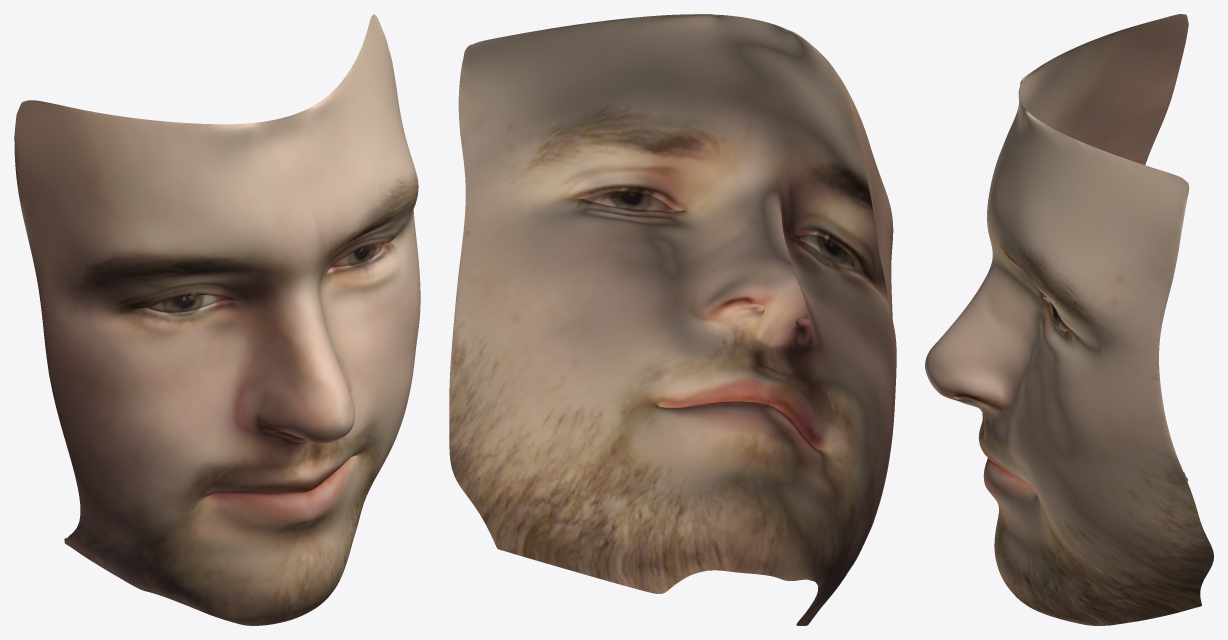
The model's file is rory-head.glb.
3 views of the same model, side by side, from view 1: azimuth 30°, elevation 25°; view 2: azimuth 150°, elevation 25°; view 3: azimuth 270°, elevation 25° (orthographic). The views are drawn at different scales.
Parts seen in each view (by area): view 1: face, eye_left, eye_right; view 2: face, eye_right, eye_left; view 3: face.
Boxes of the visible parts, left/top/right/bottom form: face: left=14, top=14, right=420, bottom=625; eye_left: left=140, top=295, right=233, bottom=315; eye_right: left=327, top=242, right=388, bottom=272; face: left=449, top=14, right=896, bottom=625; eye_right: left=584, top=189, right=681, bottom=211; eye_left: left=793, top=231, right=860, bottom=269; face: left=925, top=14, right=1213, bottom=625.
Size of the model in its own units: 0.8843 by 1.12 by 0.5836.
Materials: 1 (1 with a texture image).
